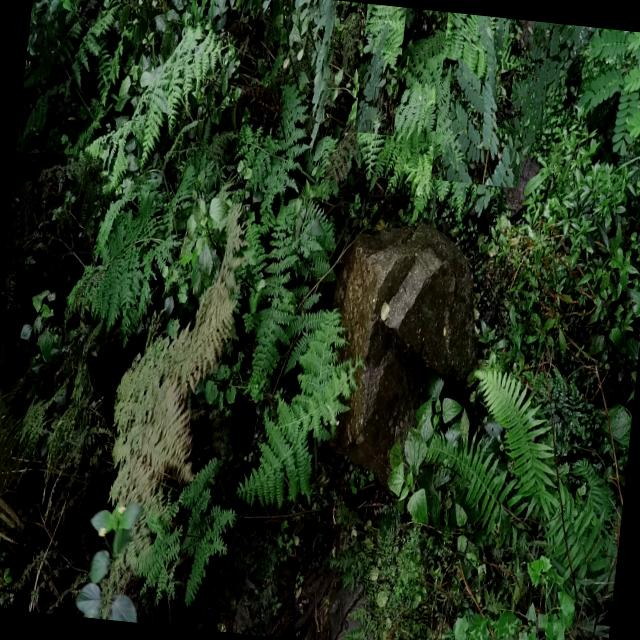Mysore-Thorn-Weed: (430, 12, 534, 188), (558, 24, 640, 153), (280, 0, 343, 120), (354, 4, 406, 136)
